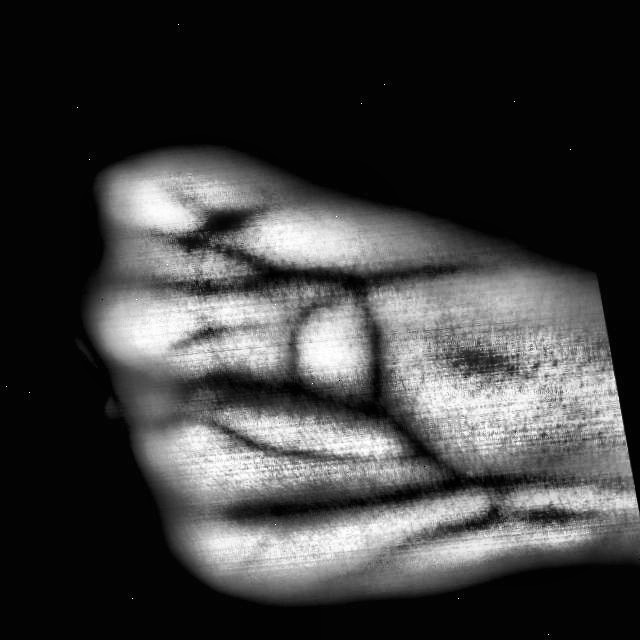Vein: (324, 469, 521, 517)
